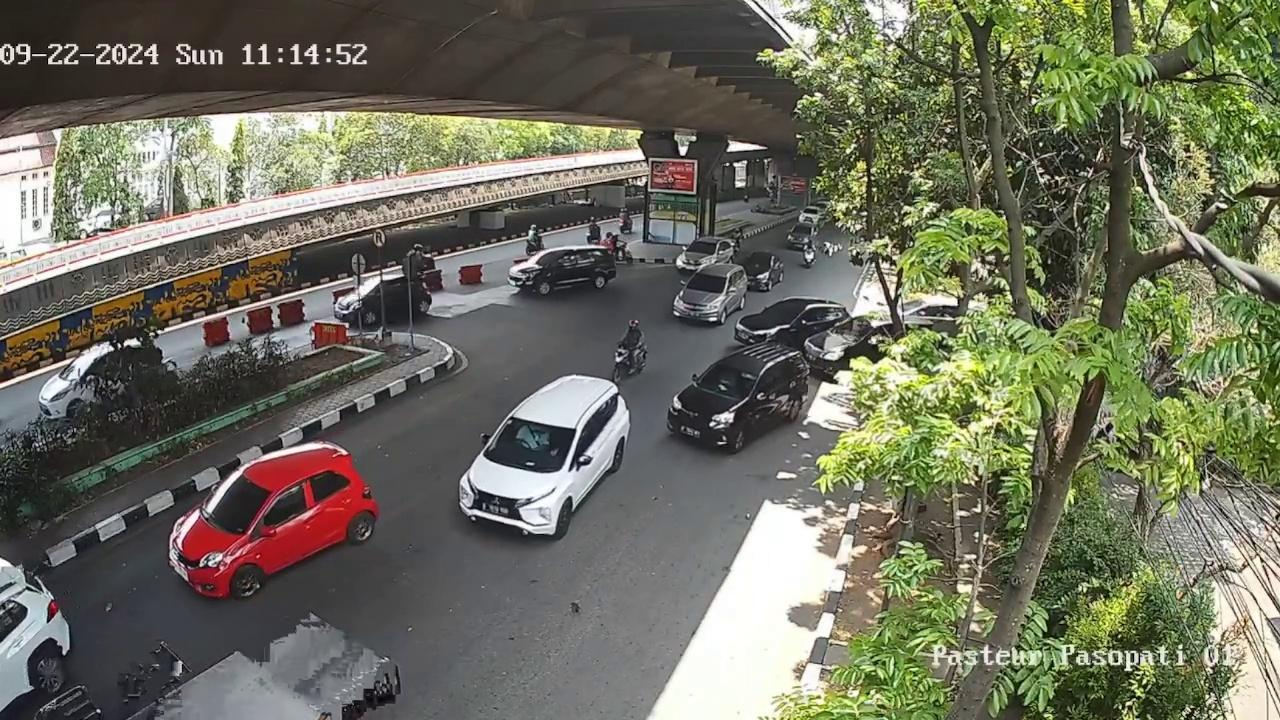pakai: (515, 421, 550, 453)
windshield: (487, 412, 576, 467), (205, 474, 267, 529), (696, 358, 758, 402), (683, 271, 730, 293)
